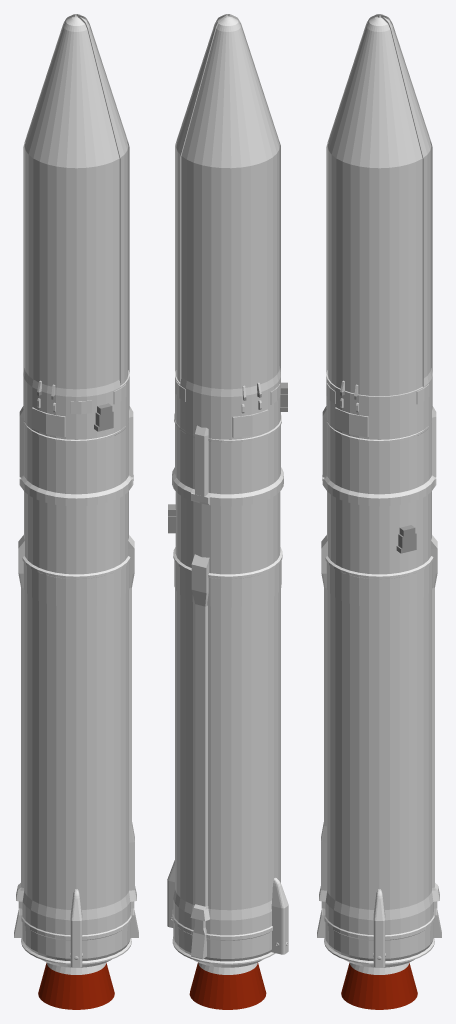
Rendered from Epsilon.glb.
3 renders of one model, left to right at view 1: azimuth 90°, elevation 25°; view 2: azimuth 150°, elevation 25°; view 3: azimuth 270°, elevation 25°, orthographic.
Visible parts, largest first — view 1: 1st Stage, Fairing, 2nd Stage, Fairing.001; view 2: 1st Stage, Fairing, 2nd Stage, Fairing.001; view 3: 1st Stage, Fairing.001, 2nd Stage, Fairing.
Boxes of the visible parts, x1,y1,x2,y2 form: 1st Stage: [14, 474, 138, 1009]; Fairing: [23, 14, 120, 396]; 2nd Stage: [19, 376, 133, 498]; Fairing.001: [69, 14, 129, 386]; 1st Stage: [167, 476, 288, 1009]; Fairing: [180, 14, 280, 396]; 2nd Stage: [172, 377, 287, 498]; Fairing.001: [175, 14, 235, 383]; 1st Stage: [317, 474, 441, 1009]; Fairing.001: [326, 14, 423, 396]; 2nd Stage: [322, 376, 436, 498]; Fairing: [372, 14, 432, 386].
Bounding box in the file's own units: 0.609 × 4.81 × 0.5554.
